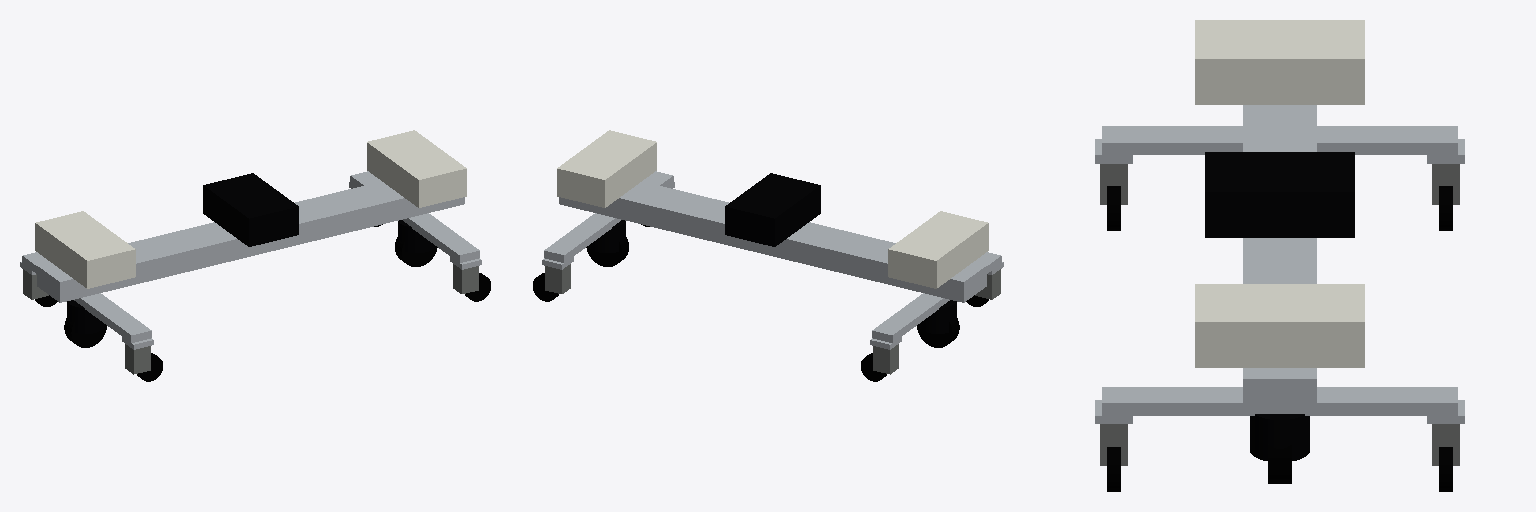
robot.urdf — patient_transport_lab_screening:
<?xml version="1.0" ?>
<!-- =================================================================================== -->
<!-- |    This document was autogenerated by xacro from src/patient_transport_description/urdf/patient_transport_lab_parametric.xacro | -->
<!-- |    EDITING THIS FILE BY HAND IS NOT RECOMMENDED                                 | -->
<!-- =================================================================================== -->
<!--
  Laboratory patient-transfer mobility-base screening model.
  Geometry measured 2026-10-05; +X forward, +Y left, +Z up.
  Mass, inertia, CoM, friction and compliance remain provisional.
-->
<robot name="patient_transport_lab_screening">
  <material name="aluminum">
    <color rgba="0.72 0.74 0.76 1"/>
  </material>
  <material name="equipment_black">
    <color rgba="0.035 0.035 0.04 1"/>
  </material>
  <material name="equipment_white">
    <color rgba="0.88 0.88 0.84 1"/>
  </material>
  <material name="tire_black">
    <color rgba="0.025 0.025 0.025 1"/>
  </material>
  <material name="caster_gray">
    <color rgba="0.48 0.49 0.48 1"/>
  </material>
  <link name="base_link">
    <inertial>
      <origin rpy="0 0 0" xyz="0 0 0.270"/>
      <mass value="220.0"/>
      <inertia ixx="13.916393333333332" ixy="0" ixz="0" iyy="52.03689333333333" iyz="0" izz="59.29916666666666"/>
    </inertial>
    <visual name="longitudinal_frame_visual">
      <origin rpy="0 0 0" xyz="0 0 0.27"/>
      <geometry>
        <box size="1.63 0.16 0.08"/>
      </geometry>
      <material name="aluminum"/>
    </visual>
    <collision name="longitudinal_frame_collision">
      <origin rpy="0 0 0" xyz="0 0 0.27"/>
      <geometry>
        <box size="1.63 0.16 0.08"/>
      </geometry>
    </collision>
    <visual name="front_crossbeam_visual">
      <origin rpy="0 0 0" xyz="0.66 0 0.185"/>
      <geometry>
        <box size="0.082 0.76 0.03"/>
      </geometry>
      <material name="aluminum"/>
    </visual>
    <collision name="front_crossbeam_collision">
      <origin rpy="0 0 0" xyz="0.66 0 0.185"/>
      <geometry>
        <box size="0.082 0.76 0.03"/>
      </geometry>
    </collision>
    <visual name="rear_crossbeam_visual">
      <origin rpy="0 0 0" xyz="-0.66 0 0.185"/>
      <geometry>
        <box size="0.082 0.76 0.03"/>
      </geometry>
      <material name="aluminum"/>
    </visual>
    <collision name="rear_crossbeam_collision">
      <origin rpy="0 0 0" xyz="-0.66 0 0.185"/>
      <geometry>
        <box size="0.082 0.76 0.03"/>
      </geometry>
    </collision>
    <visual name="front_left_caster_mount_plate_visual">
      <origin rpy="0 0 0" xyz="0.66 0.355 0.160"/>
      <geometry>
        <box size="0.080 0.080 0.020"/>
      </geometry>
      <material name="aluminum"/>
    </visual>
    <visual name="front_right_caster_mount_plate_visual">
      <origin rpy="0 0 0" xyz="0.66 -0.355 0.160"/>
      <geometry>
        <box size="0.080 0.080 0.020"/>
      </geometry>
      <material name="aluminum"/>
    </visual>
    <visual name="rear_left_caster_mount_plate_visual">
      <origin rpy="0 0 0" xyz="-0.66 0.355 0.160"/>
      <geometry>
        <box size="0.080 0.080 0.020"/>
      </geometry>
      <material name="aluminum"/>
    </visual>
    <visual name="rear_right_caster_mount_plate_visual">
      <origin rpy="0 0 0" xyz="-0.66 -0.355 0.160"/>
      <geometry>
        <box size="0.080 0.080 0.020"/>
      </geometry>
      <material name="aluminum"/>
    </visual>
    <visual name="battery_box_visual">
      <origin rpy="0 0 0" xyz="0 0 0.365"/>
      <geometry>
        <box size="0.201 0.319 0.11"/>
      </geometry>
      <material name="equipment_black"/>
    </visual>
    <collision name="battery_box_collision">
      <origin rpy="0 0 0" xyz="0 0 0.365"/>
      <geometry>
        <box size="0.201 0.319 0.11"/>
      </geometry>
    </collision>
    <visual name="front_electrical_box_visual">
      <origin rpy="0 0 0" xyz="0.6665 0 0.367"/>
      <geometry>
        <box size="0.194 0.364 0.108"/>
      </geometry>
      <material name="equipment_white"/>
    </visual>
    <collision name="front_electrical_box_collision">
      <origin rpy="0 0 0" xyz="0.6665 0 0.367"/>
      <geometry>
        <box size="0.194 0.364 0.108"/>
      </geometry>
    </collision>
    <visual name="rear_electrical_box_visual">
      <origin rpy="0 0 0" xyz="-0.6665 0 0.367"/>
      <geometry>
        <box size="0.194 0.364 0.108"/>
      </geometry>
      <material name="equipment_white"/>
    </visual>
    <collision name="rear_electrical_box_collision">
      <origin rpy="0 0 0" xyz="-0.6665 0 0.367"/>
      <geometry>
        <box size="0.194 0.364 0.108"/>
      </geometry>
    </collision>
  </link>
  <link name="front_active_steering_link">
    <inertial>
      <origin rpy="0 0 0" xyz="0 0 -0.050"/>
      <mass value="5.0"/>
      <inertia ixx="0.011208333333333334" ixy="0" ixz="0" iyy="0.011208333333333334" iyz="0" izz="0.014083333333333335"/>
    </inertial>
    <visual>
      <origin rpy="0 0 0" xyz="0 0 -0.050"/>
      <geometry>
        <cylinder length="0.100" radius="0.065"/>
      </geometry>
      <material name="equipment_black"/>
    </visual>
    <collision>
      <origin rpy="0 0 0" xyz="0 0 -0.050"/>
      <geometry>
        <cylinder length="0.100" radius="0.065"/>
      </geometry>
    </collision>
  </link>
  <joint name="base_link_to_front_active_steering" type="revolute">
    <parent link="base_link"/>
    <child link="front_active_steering_link"/>
    <origin rpy="0 0 0" xyz="0.665 0 0.174"/>
    <axis xyz="0 0 1"/>
    <limit effort="250" lower="-0.7853981633974483" upper="0.7853981633974483" velocity="3.0"/>
    <dynamics damping="0.08" friction="0"/>
  </joint>
  <link name="front_active_drive_wheel_link">
    <inertial>
      <origin rpy="0 0 0" xyz="0 0 0"/>
      <mass value="3.0"/>
      <inertia ixx="0.0045671875" ixy="0" ixz="0" iyy="0.007884374999999999" iyz="0" izz="0.0045671875"/>
    </inertial>
    <visual>
      <origin rpy="1.5707963267948966 0 0" xyz="0 0 0"/>
      <geometry>
        <cylinder length="0.05" radius="0.0725"/>
      </geometry>
      <material name="tire_black"/>
    </visual>
    <collision>
      <origin rpy="1.5707963267948966 0 0" xyz="0 0 0"/>
      <geometry>
        <cylinder length="0.05" radius="0.074"/>
      </geometry>
    </collision>
  </link>
  <joint name="front_active_steering_to_drive_wheel" type="continuous">
    <parent link="front_active_steering_link"/>
    <child link="front_active_drive_wheel_link"/>
    <origin rpy="0 0 0" xyz="0.0 0 -0.09999999999999999"/>
    <axis xyz="0 1 0"/>
    <limit effort="500" velocity="25"/>
    <dynamics damping="0.05" friction="0"/>
  </joint>
  <link name="rear_active_steering_link">
    <inertial>
      <origin rpy="0 0 0" xyz="0 0 -0.050"/>
      <mass value="5.0"/>
      <inertia ixx="0.011208333333333334" ixy="0" ixz="0" iyy="0.011208333333333334" iyz="0" izz="0.014083333333333335"/>
    </inertial>
    <visual>
      <origin rpy="0 0 0" xyz="0 0 -0.050"/>
      <geometry>
        <cylinder length="0.100" radius="0.065"/>
      </geometry>
      <material name="equipment_black"/>
    </visual>
    <collision>
      <origin rpy="0 0 0" xyz="0 0 -0.050"/>
      <geometry>
        <cylinder length="0.100" radius="0.065"/>
      </geometry>
    </collision>
  </link>
  <joint name="base_link_to_rear_active_steering" type="revolute">
    <parent link="base_link"/>
    <child link="rear_active_steering_link"/>
    <origin rpy="0 0 0" xyz="-0.665 0 0.174"/>
    <axis xyz="0 0 1"/>
    <limit effort="250" lower="-0.7853981633974483" upper="0.7853981633974483" velocity="3.0"/>
    <dynamics damping="0.08" friction="0"/>
  </joint>
  <link name="rear_active_drive_wheel_link">
    <inertial>
      <origin rpy="0 0 0" xyz="0 0 0"/>
      <mass value="3.0"/>
      <inertia ixx="0.0045671875" ixy="0" ixz="0" iyy="0.007884374999999999" iyz="0" izz="0.0045671875"/>
    </inertial>
    <visual>
      <origin rpy="1.5707963267948966 0 0" xyz="0 0 0"/>
      <geometry>
        <cylinder length="0.05" radius="0.0725"/>
      </geometry>
      <material name="tire_black"/>
    </visual>
    <collision>
      <origin rpy="1.5707963267948966 0 0" xyz="0 0 0"/>
      <geometry>
        <cylinder length="0.05" radius="0.074"/>
      </geometry>
    </collision>
  </link>
  <joint name="rear_active_steering_to_drive_wheel" type="continuous">
    <parent link="rear_active_steering_link"/>
    <child link="rear_active_drive_wheel_link"/>
    <origin rpy="0 0 0" xyz="0.0 0 -0.09999999999999999"/>
    <axis xyz="0 1 0"/>
    <limit effort="500" velocity="25"/>
    <dynamics damping="0.05" friction="0"/>
  </joint>
  <link name="front_left_caster_link">
    <inertial>
      <origin rpy="0 0 0" xyz="0 0 -0.050"/>
      <mass value="0.75"/>
      <inertia ixx="0.0008500000000000001" ixy="0" ixz="0" iyy="0.0009312500000000002" iyz="0" izz="0.00053125"/>
    </inertial>
    <visual>
      <origin rpy="0 0 0" xyz="0 0 -0.050"/>
      <geometry>
        <box size="0.070 0.060 0.100"/>
      </geometry>
      <material name="caster_gray"/>
    </visual>
    <collision>
      <origin rpy="0 0 0" xyz="0 0 -0.050"/>
      <geometry>
        <box size="0.070 0.060 0.100"/>
      </geometry>
    </collision>
  </link>
  <joint name="base_link_to_front_left_caster" type="continuous">
    <parent link="base_link"/>
    <child link="front_left_caster_link"/>
    <origin rpy="0 0 0" xyz="0.66 0.355 0.15"/>
    <axis xyz="0 0 1"/>
    <limit effort="50" velocity="30"/>
    <dynamics damping="0.06" friction="0"/>
  </joint>
  <link name="front_left_caster_wheel_link">
    <inertial>
      <origin rpy="0 0 0" xyz="0 0 0"/>
      <mass value="0.25"/>
      <inertia ixx="0.00016576562500000003" ixy="0" ixz="0" iyy="0.00029403125" iyz="0" izz="0.00016576562500000003"/>
    </inertial>
    <visual>
      <origin rpy="1.5707963267948966 0 0" xyz="0 0 0"/>
      <geometry>
        <cylinder length="0.03" radius="0.0485"/>
      </geometry>
      <material name="tire_black"/>
    </visual>
    <collision>
      <origin rpy="1.5707963267948966 0 0" xyz="0 0 0"/>
      <geometry>
        <cylinder length="0.03" radius="0.0475"/>
      </geometry>
    </collision>
  </link>
  <joint name="front_left_caster_to_wheel" type="continuous">
    <parent link="front_left_caster_link"/>
    <child link="front_left_caster_wheel_link"/>
    <!-- Zero angle is leading; pi radians is the normal trailing state. -->
    <origin rpy="0 0 0" xyz="0.045 0 -0.1025"/>
    <axis xyz="0 1 0"/>
    <limit effort="50" velocity="40"/>
    <dynamics damping="0.004" friction="0"/>
  </joint>
  <link name="front_right_caster_link">
    <inertial>
      <origin rpy="0 0 0" xyz="0 0 -0.050"/>
      <mass value="0.75"/>
      <inertia ixx="0.0008500000000000001" ixy="0" ixz="0" iyy="0.0009312500000000002" iyz="0" izz="0.00053125"/>
    </inertial>
    <visual>
      <origin rpy="0 0 0" xyz="0 0 -0.050"/>
      <geometry>
        <box size="0.070 0.060 0.100"/>
      </geometry>
      <material name="caster_gray"/>
    </visual>
    <collision>
      <origin rpy="0 0 0" xyz="0 0 -0.050"/>
      <geometry>
        <box size="0.070 0.060 0.100"/>
      </geometry>
    </collision>
  </link>
  <joint name="base_link_to_front_right_caster" type="continuous">
    <parent link="base_link"/>
    <child link="front_right_caster_link"/>
    <origin rpy="0 0 0" xyz="0.66 -0.355 0.15"/>
    <axis xyz="0 0 1"/>
    <limit effort="50" velocity="30"/>
    <dynamics damping="0.06" friction="0"/>
  </joint>
  <link name="front_right_caster_wheel_link">
    <inertial>
      <origin rpy="0 0 0" xyz="0 0 0"/>
      <mass value="0.25"/>
      <inertia ixx="0.00016576562500000003" ixy="0" ixz="0" iyy="0.00029403125" iyz="0" izz="0.00016576562500000003"/>
    </inertial>
    <visual>
      <origin rpy="1.5707963267948966 0 0" xyz="0 0 0"/>
      <geometry>
        <cylinder length="0.03" radius="0.0485"/>
      </geometry>
      <material name="tire_black"/>
    </visual>
    <collision>
      <origin rpy="1.5707963267948966 0 0" xyz="0 0 0"/>
      <geometry>
        <cylinder length="0.03" radius="0.0475"/>
      </geometry>
    </collision>
  </link>
  <joint name="front_right_caster_to_wheel" type="continuous">
    <parent link="front_right_caster_link"/>
    <child link="front_right_caster_wheel_link"/>
    <!-- Zero angle is leading; pi radians is the normal trailing state. -->
    <origin rpy="0 0 0" xyz="0.045 0 -0.1025"/>
    <axis xyz="0 1 0"/>
    <limit effort="50" velocity="40"/>
    <dynamics damping="0.004" friction="0"/>
  </joint>
  <link name="rear_left_caster_link">
    <inertial>
      <origin rpy="0 0 0" xyz="0 0 -0.050"/>
      <mass value="0.75"/>
      <inertia ixx="0.0008500000000000001" ixy="0" ixz="0" iyy="0.0009312500000000002" iyz="0" izz="0.00053125"/>
    </inertial>
    <visual>
      <origin rpy="0 0 0" xyz="0 0 -0.050"/>
      <geometry>
        <box size="0.070 0.060 0.100"/>
      </geometry>
      <material name="caster_gray"/>
    </visual>
    <collision>
      <origin rpy="0 0 0" xyz="0 0 -0.050"/>
      <geometry>
        <box size="0.070 0.060 0.100"/>
      </geometry>
    </collision>
  </link>
  <joint name="base_link_to_rear_left_caster" type="continuous">
    <parent link="base_link"/>
    <child link="rear_left_caster_link"/>
    <origin rpy="0 0 0" xyz="-0.66 0.355 0.15"/>
    <axis xyz="0 0 1"/>
    <limit effort="50" velocity="30"/>
    <dynamics damping="0.06" friction="0"/>
  </joint>
  <link name="rear_left_caster_wheel_link">
    <inertial>
      <origin rpy="0 0 0" xyz="0 0 0"/>
      <mass value="0.25"/>
      <inertia ixx="0.00016576562500000003" ixy="0" ixz="0" iyy="0.00029403125" iyz="0" izz="0.00016576562500000003"/>
    </inertial>
    <visual>
      <origin rpy="1.5707963267948966 0 0" xyz="0 0 0"/>
      <geometry>
        <cylinder length="0.03" radius="0.0485"/>
      </geometry>
      <material name="tire_black"/>
    </visual>
    <collision>
      <origin rpy="1.5707963267948966 0 0" xyz="0 0 0"/>
      <geometry>
        <cylinder length="0.03" radius="0.0475"/>
      </geometry>
    </collision>
  </link>
  <joint name="rear_left_caster_to_wheel" type="continuous">
    <parent link="rear_left_caster_link"/>
    <child link="rear_left_caster_wheel_link"/>
    <!-- Zero angle is leading; pi radians is the normal trailing state. -->
    <origin rpy="0 0 0" xyz="0.045 0 -0.1025"/>
    <axis xyz="0 1 0"/>
    <limit effort="50" velocity="40"/>
    <dynamics damping="0.004" friction="0"/>
  </joint>
  <link name="rear_right_caster_link">
    <inertial>
      <origin rpy="0 0 0" xyz="0 0 -0.050"/>
      <mass value="0.75"/>
      <inertia ixx="0.0008500000000000001" ixy="0" ixz="0" iyy="0.0009312500000000002" iyz="0" izz="0.00053125"/>
    </inertial>
    <visual>
      <origin rpy="0 0 0" xyz="0 0 -0.050"/>
      <geometry>
        <box size="0.070 0.060 0.100"/>
      </geometry>
      <material name="caster_gray"/>
    </visual>
    <collision>
      <origin rpy="0 0 0" xyz="0 0 -0.050"/>
      <geometry>
        <box size="0.070 0.060 0.100"/>
      </geometry>
    </collision>
  </link>
  <joint name="base_link_to_rear_right_caster" type="continuous">
    <parent link="base_link"/>
    <child link="rear_right_caster_link"/>
    <origin rpy="0 0 0" xyz="-0.66 -0.355 0.15"/>
    <axis xyz="0 0 1"/>
    <limit effort="50" velocity="30"/>
    <dynamics damping="0.06" friction="0"/>
  </joint>
  <link name="rear_right_caster_wheel_link">
    <inertial>
      <origin rpy="0 0 0" xyz="0 0 0"/>
      <mass value="0.25"/>
      <inertia ixx="0.00016576562500000003" ixy="0" ixz="0" iyy="0.00029403125" iyz="0" izz="0.00016576562500000003"/>
    </inertial>
    <visual>
      <origin rpy="1.5707963267948966 0 0" xyz="0 0 0"/>
      <geometry>
        <cylinder length="0.03" radius="0.0485"/>
      </geometry>
      <material name="tire_black"/>
    </visual>
    <collision>
      <origin rpy="1.5707963267948966 0 0" xyz="0 0 0"/>
      <geometry>
        <cylinder length="0.03" radius="0.0475"/>
      </geometry>
    </collision>
  </link>
  <joint name="rear_right_caster_to_wheel" type="continuous">
    <parent link="rear_right_caster_link"/>
    <child link="rear_right_caster_wheel_link"/>
    <!-- Zero angle is leading; pi radians is the normal trailing state. -->
    <origin rpy="0 0 0" xyz="0.045 0 -0.1025"/>
    <axis xyz="0 1 0"/>
    <limit effort="50" velocity="40"/>
    <dynamics damping="0.004" friction="0"/>
  </joint>
  <!-- HY laboratory sensor TF chain.  These are massless coordinate frames;
       point-emitting sensor models are added only after MID-360 validation. -->
  <link name="livox_frame"/>
  <joint name="base_link_to_livox_frame" type="fixed">
    <parent link="base_link"/>
    <child link="livox_frame"/>
    <origin rpy="0 0 0" xyz="0.0485 0.005 0.23"/>
  </joint>
  <link name="livox_front"/>
  <joint name="livox_frame_to_livox_front" type="fixed">
    <parent link="livox_frame"/>
    <child link="livox_front"/>
    <origin rpy="0.005567 -0.010252 1.5707963267948966" xyz="0.6485 0.345 0"/>
  </joint>
  <link name="livox_rear"/>
  <joint name="livox_frame_to_livox_rear" type="fixed">
    <parent link="livox_frame"/>
    <child link="livox_rear"/>
    <origin rpy="0 0 -1.5707963267948966" xyz="-0.6485 -0.345 0"/>
  </joint>
  <link name="livox_top"/>
  <joint name="livox_frame_to_livox_top" type="fixed">
    <parent link="livox_frame"/>
    <child link="livox_top"/>
    <origin rpy="-1.589567 0.009866 3.141592653589793" xyz="-0.0375 -0.28 0.12"/>
  </joint>
  <link name="imu_link"/>
  <joint name="livox_top_to_imu_link" type="fixed">
    <parent link="livox_top"/>
    <child link="imu_link"/>
    <origin rpy="0 0 0" xyz="0.011 0.02329 -0.04412"/>
  </joint>
</robot>

--- Facts derived from the render (not from the file) ---
The picture shows the robot from 3 angles, left to right: view 1: azimuth 30°, elevation 25°; view 2: azimuth 150°, elevation 25°; view 3: azimuth 270°, elevation 25°; orthographic projection.
Robot: patient_transport_lab_screening — 18 links, 17 joints (2 revolute, 10 continuous, 5 fixed); root link base_link; default pose: all joints at 0.
Links seen in each view (by area): view 1: base_link, rear_active_steering_link, front_active_steering_link, rear_right_caster_link, front_right_caster_link, rear_active_drive_wheel_link, front_active_drive_wheel_link; view 2: base_link, rear_active_steering_link, front_active_steering_link, rear_left_caster_link, front_left_caster_link, rear_active_drive_wheel_link, front_active_drive_wheel_link; view 3: base_link, front_active_steering_link, front_left_caster_link, front_right_caster_link, rear_left_caster_link, rear_right_caster_link, front_active_drive_wheel_link, front_left_caster_wheel_link, front_right_caster_wheel_link, rear_left_caster_wheel_link, rear_right_caster_wheel_link.
Boxes of the visible links, bbox=[...] form: base_link: bbox=[20, 130, 481, 349]; rear_active_steering_link: bbox=[67, 300, 103, 333]; front_active_steering_link: bbox=[398, 220, 434, 252]; rear_right_caster_link: bbox=[125, 344, 150, 374]; front_right_caster_link: bbox=[453, 264, 478, 293]; rear_active_drive_wheel_link: bbox=[64, 317, 106, 347]; front_active_drive_wheel_link: bbox=[395, 237, 437, 266]; base_link: bbox=[542, 130, 1003, 349]; rear_active_steering_link: bbox=[920, 300, 956, 333]; front_active_steering_link: bbox=[589, 220, 625, 252]; rear_left_caster_link: bbox=[873, 344, 898, 374]; front_left_caster_link: bbox=[545, 264, 570, 293]; rear_active_drive_wheel_link: bbox=[917, 317, 959, 347]; front_active_drive_wheel_link: bbox=[586, 237, 628, 266]; base_link: bbox=[1095, 20, 1464, 423]; front_active_steering_link: bbox=[1250, 414, 1309, 460]; front_left_caster_link: bbox=[1432, 424, 1459, 465]; front_right_caster_link: bbox=[1100, 424, 1127, 465]; rear_left_caster_link: bbox=[1432, 164, 1459, 204]; rear_right_caster_link: bbox=[1100, 164, 1127, 204]; front_active_drive_wheel_link: bbox=[1268, 444, 1291, 483]; front_left_caster_wheel_link: bbox=[1439, 447, 1452, 491]; front_right_caster_wheel_link: bbox=[1107, 447, 1120, 491]; rear_left_caster_wheel_link: bbox=[1439, 186, 1452, 230]; rear_right_caster_wheel_link: bbox=[1107, 186, 1120, 230].
Bounding box of the posed robot: 1.63 × 0.79 × 0.422 m (x, y, z).
Geometry: primitives only (box / cylinder / sphere), no mesh files.
